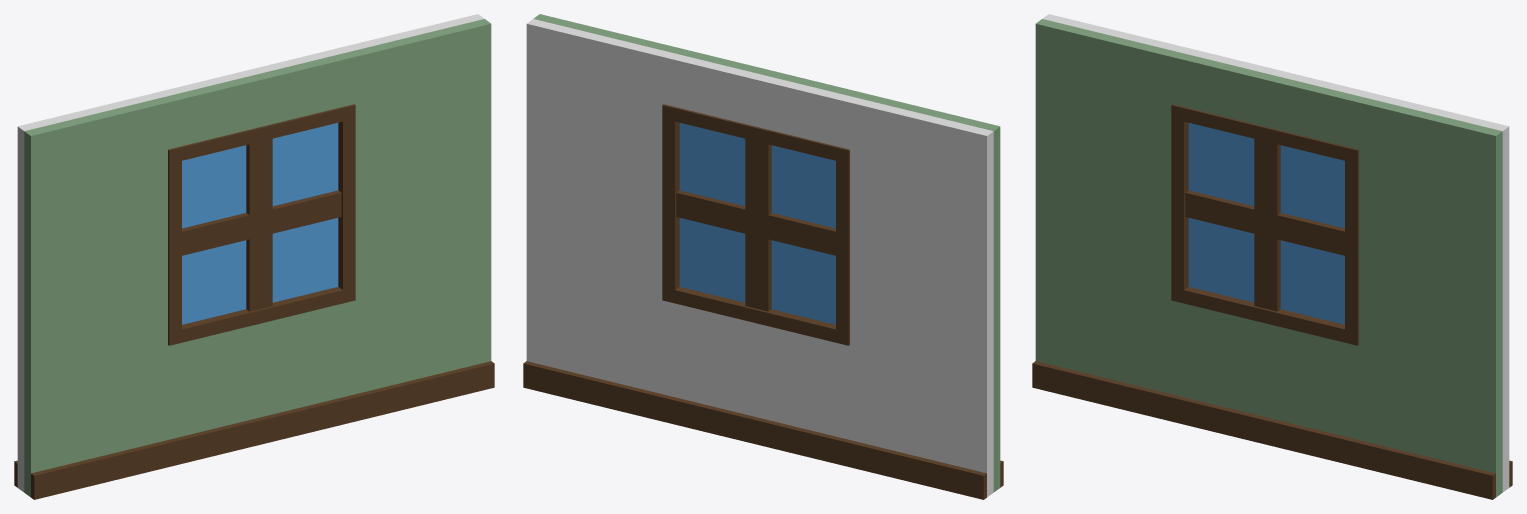
File: h_wall_1_window1.fbx
3 renders of one model, left to right at view 1: azimuth 30°, elevation 25°; view 2: azimuth 150°, elevation 25°; view 3: azimuth 330°, elevation 25°, orthographic.
Visible parts, largest first — view 1: Cube; view 2: Cube; view 3: Cube.
Part boxes in pixels (left/top/right/bottom): Cube: left=14, top=14, right=494, bottom=499; Cube: left=523, top=14, right=1003, bottom=499; Cube: left=1032, top=14, right=1512, bottom=499.
Size of the model in its own units: 400 by 300 by 30.
